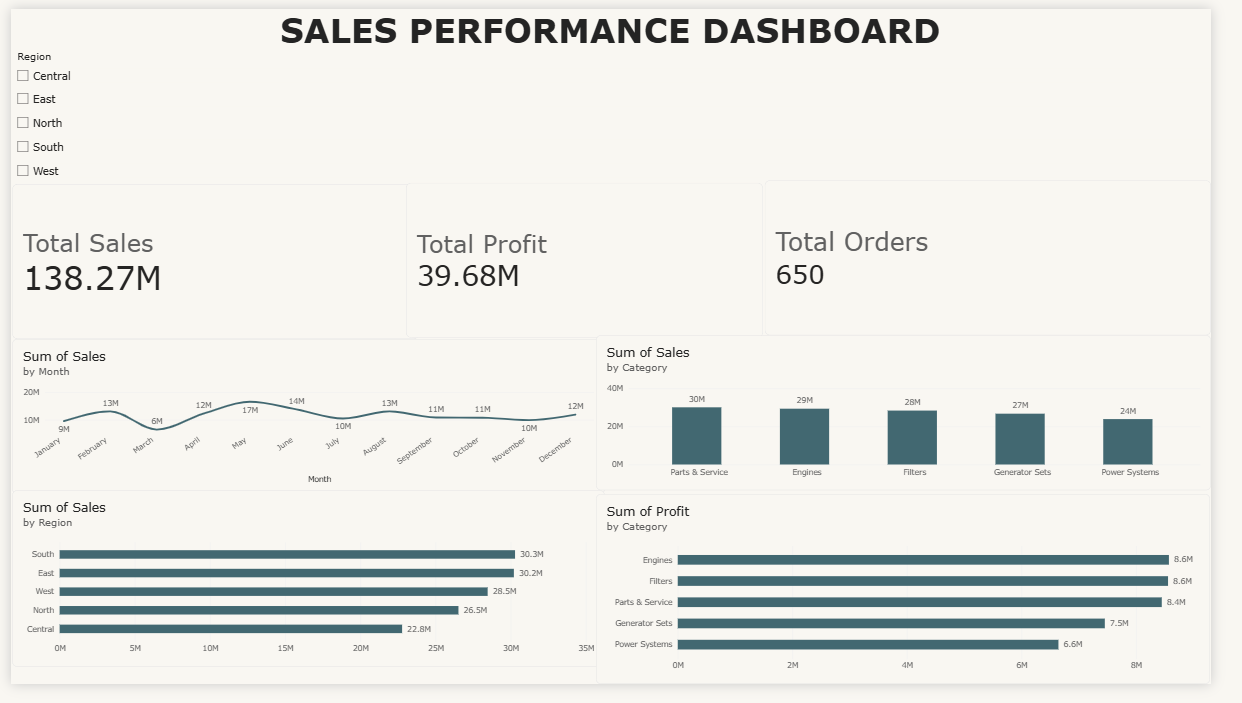

The dashboard page shown, as its layout file describes it:
{"tool":"powerbi","page":{"name":"Page 1","canvas":[1920,1080],"ordinal":0},"visuals":[{"type":"cardVisual","fields":{"Data":["sales_performance_dataset.Total Sales"]},"box":[2,280,651.2,248.8],"z":0},{"type":"cardVisual","fields":{"Data":["sales_performance_dataset.Total Profit"]},"box":[632,278,571.1,248.8],"z":1000},{"type":"cardVisual","fields":{"Data":["sales_performance_dataset.Total Orders"]},"box":[1206,274,714.7,248.8],"z":2000},{"type":"lineChart","fields":{"Category":["sales_performance_dataset.OrderDate.Variation.Date Hierarchy.Month"],"Y":["Sum(sales_performance_dataset.Sales)"]},"box":[2,528,948,248],"z":3000},{"type":"columnChart","fields":{"Category":["sales_performance_dataset.Category"],"Y":["Sum(sales_performance_dataset.Sales)"]},"box":[936,522,984,248],"z":4000},{"type":"clusteredBarChart","fields":{"Category":["sales_performance_dataset.Region"],"Y":["Sum(sales_performance_dataset.Sales)"]},"box":[2,770,948,282],"z":5000},{"type":"clusteredBarChart","fields":{"Category":["sales_performance_dataset.Category"],"Y":["Sum(sales_performance_dataset.Profit)"]},"box":[936,776,982,304],"z":6000},{"type":"slicer","fields":{"Values":["sales_performance_dataset.Region"]},"box":[2,66,1918,214],"z":7000},{"type":"textbox","box":[100,100,300,300],"z":8000},{"type":"textbox","box":[100,100,300,300],"z":9000},{"type":"textbox","box":[100,100,300,300],"z":10000},{"type":"textbox","box":[0,0,1918,86],"z":11000}]}

Visuals, with their boxes in screenshot pixels (x1, y1, x2, y2), scaled from the page's 1920x1080 canvas onto the 1242x703 screenshot:
cardVisual - sales_performance_dataset.Total Sales: [left=1, top=182, right=423, bottom=344]
cardVisual - sales_performance_dataset.Total Profit: [left=409, top=181, right=778, bottom=343]
cardVisual - sales_performance_dataset.Total Orders: [left=780, top=178, right=1241, bottom=340]
lineChart - sales_performance_dataset.OrderDate.Variation.Date Hierarchy.Month x Sum(sales_performance_dataset.Sales): [left=1, top=344, right=615, bottom=505]
columnChart - sales_performance_dataset.Category x Sum(sales_performance_dataset.Sales): [left=605, top=340, right=1241, bottom=501]
clusteredBarChart - sales_performance_dataset.Region x Sum(sales_performance_dataset.Sales): [left=1, top=501, right=615, bottom=685]
clusteredBarChart - sales_performance_dataset.Category x Sum(sales_performance_dataset.Profit): [left=605, top=505, right=1241, bottom=702]
slicer - sales_performance_dataset.Region: [left=1, top=43, right=1241, bottom=182]
textbox: [left=65, top=65, right=259, bottom=260]
textbox: [left=65, top=65, right=259, bottom=260]
textbox: [left=65, top=65, right=259, bottom=260]
textbox: [left=0, top=0, right=1241, bottom=56]
